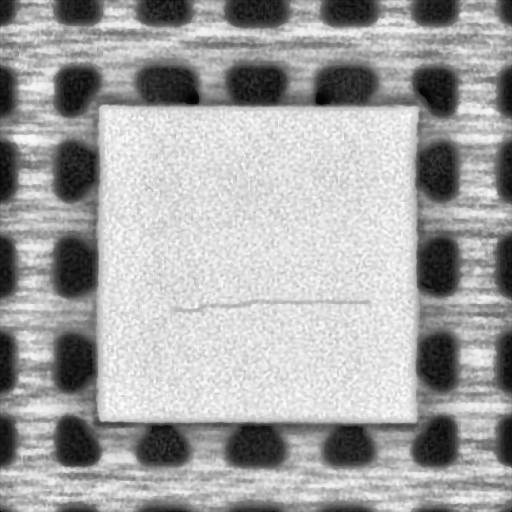DIE_CRACK: (172, 292, 371, 313)
